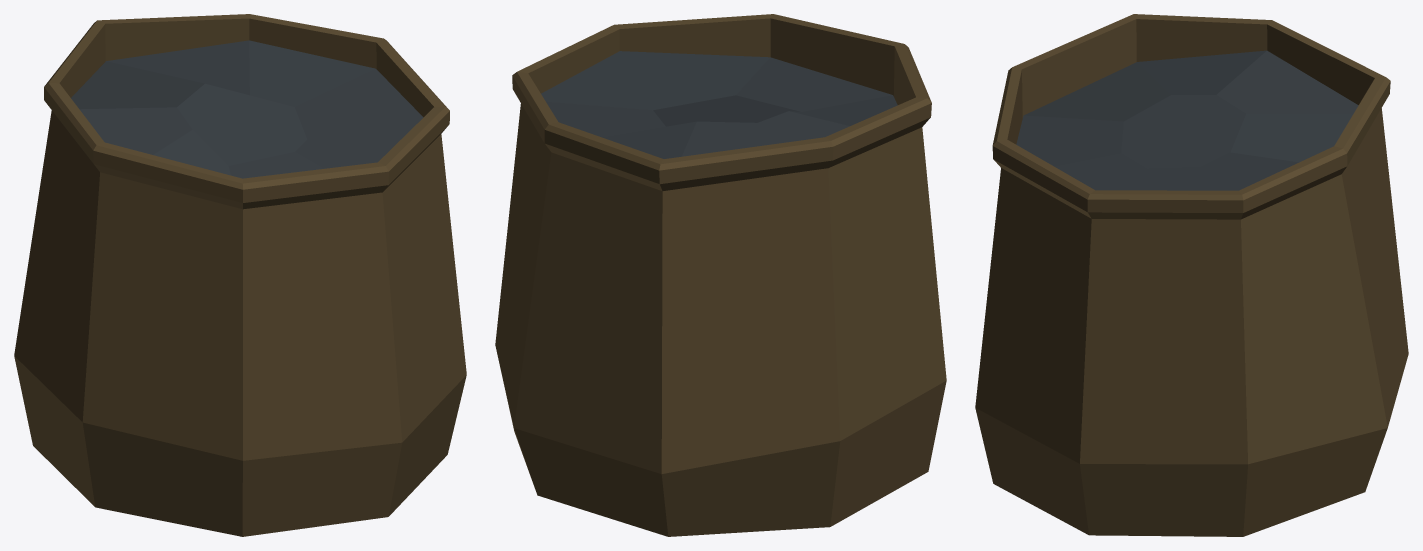
File: Bag_3.fbx
3 views of the same model, side by side, from view 1: azimuth 30°, elevation 25°; view 2: azimuth 150°, elevation 25°; view 3: azimuth 270°, elevation 25° (orthographic). The views are drawn at different scales.
Parts seen in each view (by area): view 1: Bag_3; view 2: Bag_3; view 3: Bag_3.
Boxes of the visible parts, bbox=[...] form: Bag_3: bbox=[14, 14, 466, 536]; Bag_3: bbox=[495, 14, 946, 536]; Bag_3: bbox=[975, 14, 1408, 536].
Bounding box in the file's own units: 102 × 97.91 × 104.
